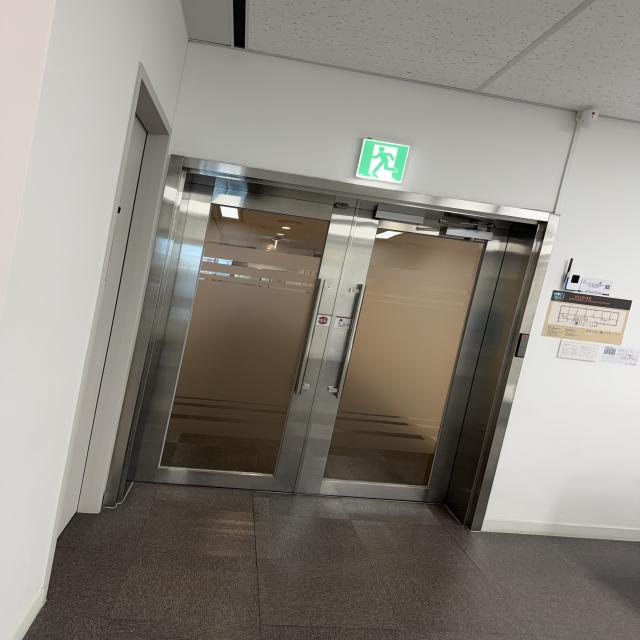rear_door: (131, 176, 536, 506)
